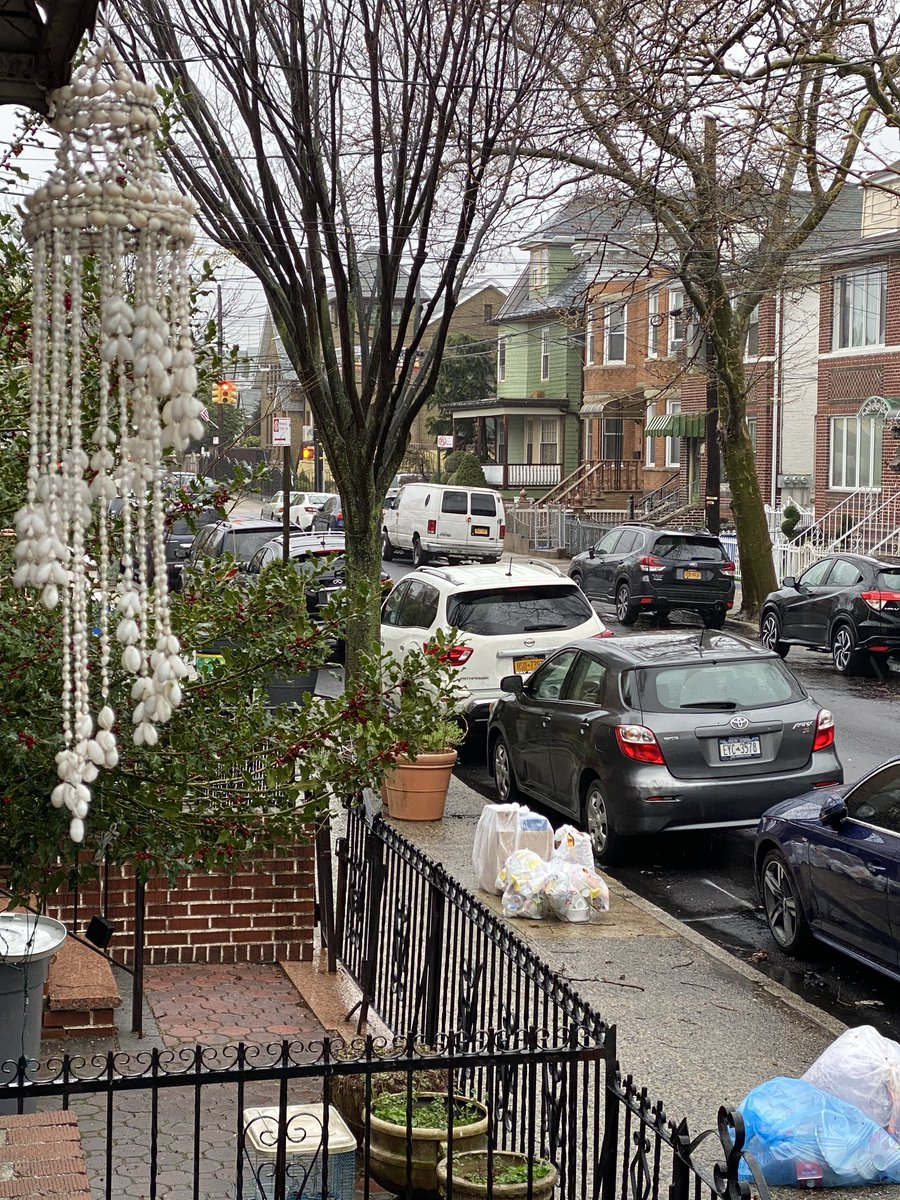building: (594, 251, 900, 579), (472, 170, 592, 512)
car: (492, 634, 837, 838), (370, 566, 611, 734), (759, 544, 900, 673), (568, 520, 731, 629), (385, 481, 516, 560)
tree: (151, 1, 538, 679), (537, 1, 900, 575)
